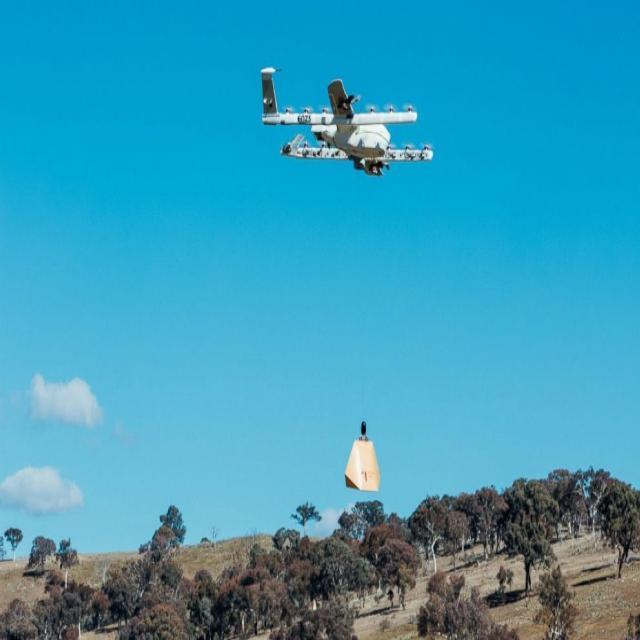iha: (257, 67, 434, 199)
